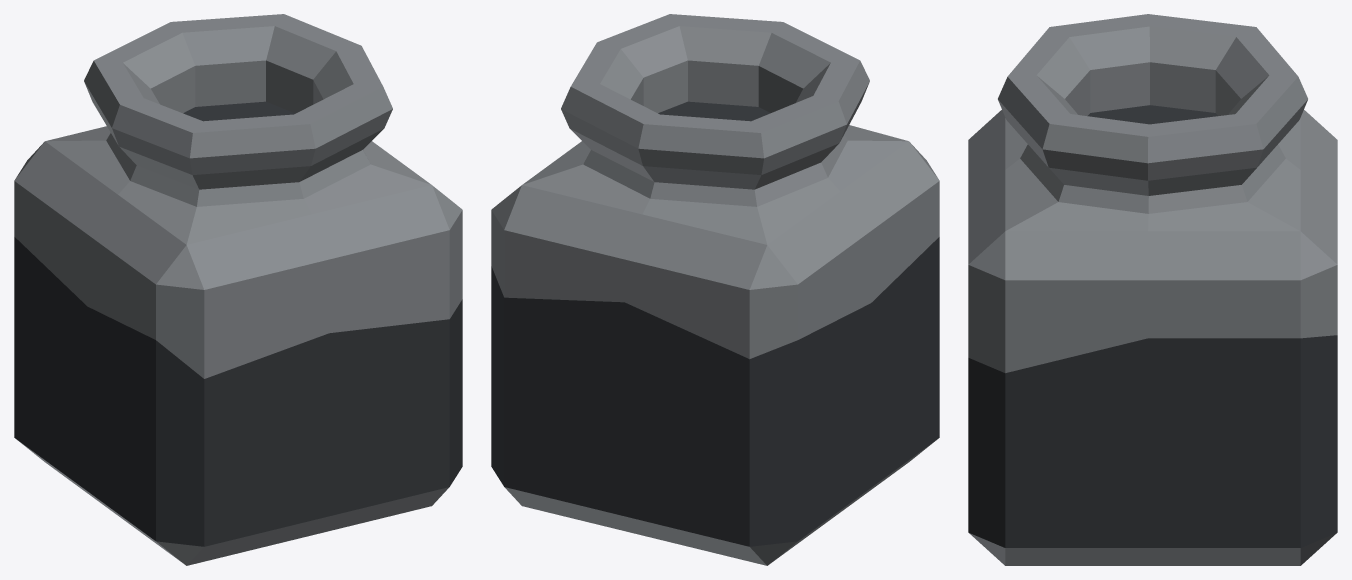
The model's file is SM_Prop_Ink_Pot_01.fbx.
The picture shows the model from 3 angles, left to right: view 1: azimuth 30°, elevation 25°; view 2: azimuth 150°, elevation 25°; view 3: azimuth 270°, elevation 25°; orthographic projection. The views are drawn at different scales.
Visible parts, largest first — view 1: SM_Prop_Ink_Pot_01; view 2: SM_Prop_Ink_Pot_01; view 3: SM_Prop_Ink_Pot_01.
Boxes of the visible parts, x1,y1,x2,y2 form: SM_Prop_Ink_Pot_01: (14, 14, 462, 565); SM_Prop_Ink_Pot_01: (491, 14, 939, 565); SM_Prop_Ink_Pot_01: (968, 14, 1337, 565).
Size of the model in its own units: 9.15 by 11.71 by 9.15.
